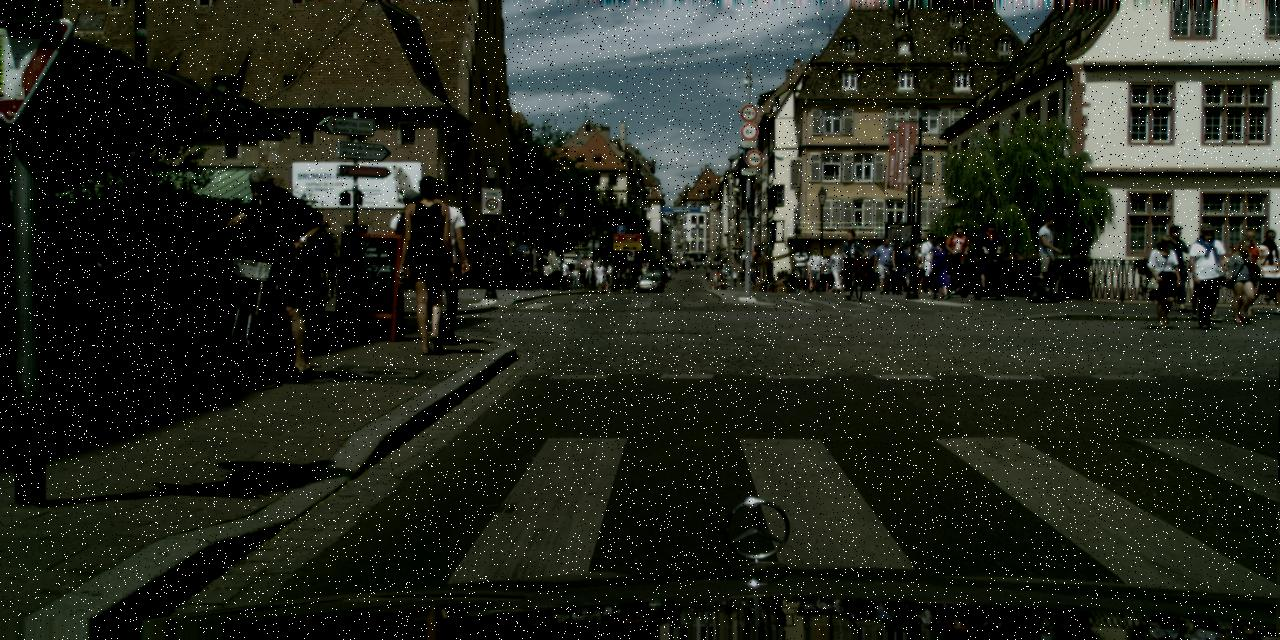ped: (238, 168, 324, 378), (394, 175, 466, 354), (410, 180, 476, 342), (379, 190, 438, 334), (1184, 222, 1228, 328), (1144, 235, 1182, 329), (1188, 230, 1224, 320), (1156, 224, 1191, 312), (1229, 231, 1263, 315), (1226, 240, 1260, 324), (1034, 215, 1065, 291), (1250, 229, 1278, 313), (942, 222, 969, 290), (839, 230, 865, 296), (976, 222, 1002, 288), (917, 232, 942, 297), (927, 236, 952, 298), (872, 236, 895, 294), (886, 240, 908, 294), (910, 243, 930, 293), (826, 246, 846, 292), (790, 246, 809, 294), (892, 244, 911, 291), (908, 242, 926, 290), (806, 248, 824, 294), (798, 249, 816, 294), (820, 252, 836, 292), (556, 259, 569, 290), (593, 261, 605, 291), (540, 260, 551, 289), (578, 264, 588, 290), (719, 261, 731, 281), (584, 265, 593, 289), (570, 266, 579, 290), (524, 268, 532, 290), (532, 267, 540, 288), (748, 268, 756, 288), (702, 260, 717, 270), (731, 270, 738, 288), (673, 258, 679, 274), (739, 268, 745, 284), (566, 270, 572, 284), (664, 260, 672, 270), (691, 260, 698, 270), (712, 273, 716, 289), (719, 284, 720, 290)
